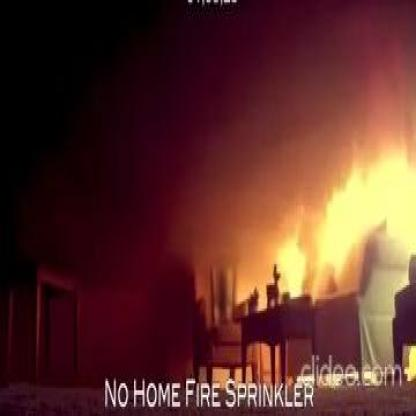fire: (318, 145, 416, 238), (312, 175, 359, 283), (278, 234, 310, 297)
